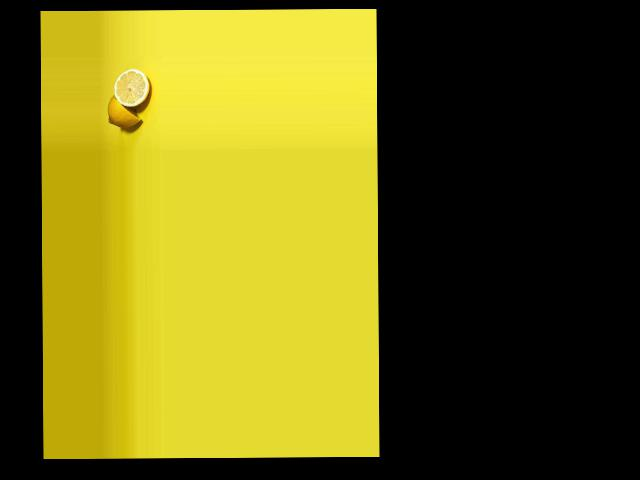lemon: (106, 93, 146, 129)
